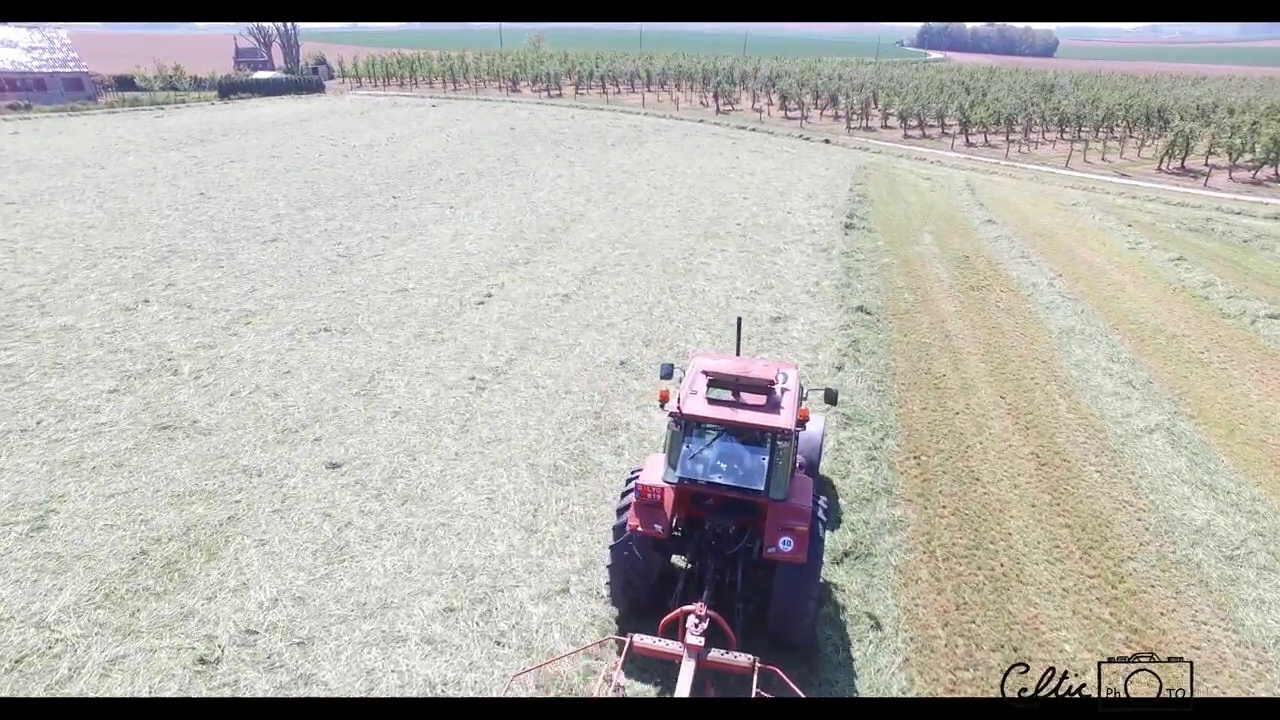traktor: (592, 313, 834, 636)
